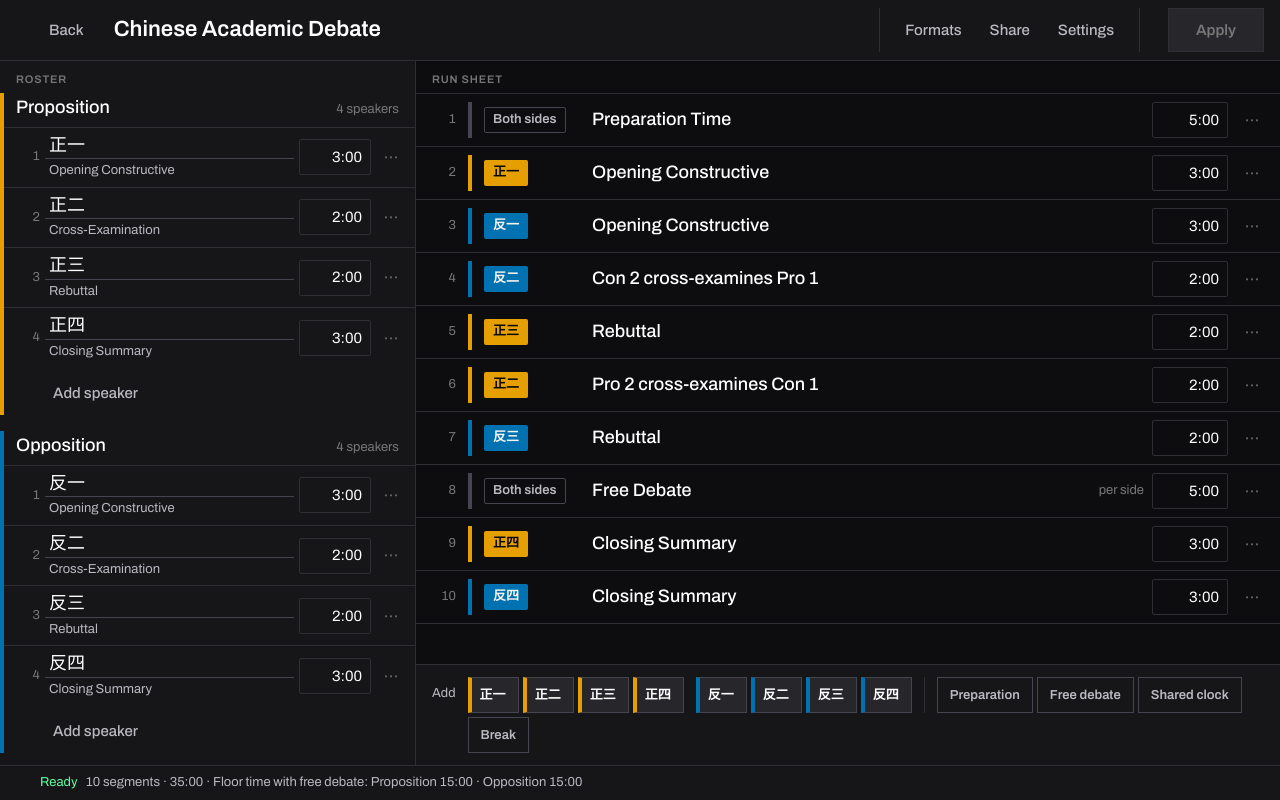
Editor › a speech row's time is its speaker's, so the roster and every speech by them agree
Click the button "正一": (493, 696) [468,678,519,714]
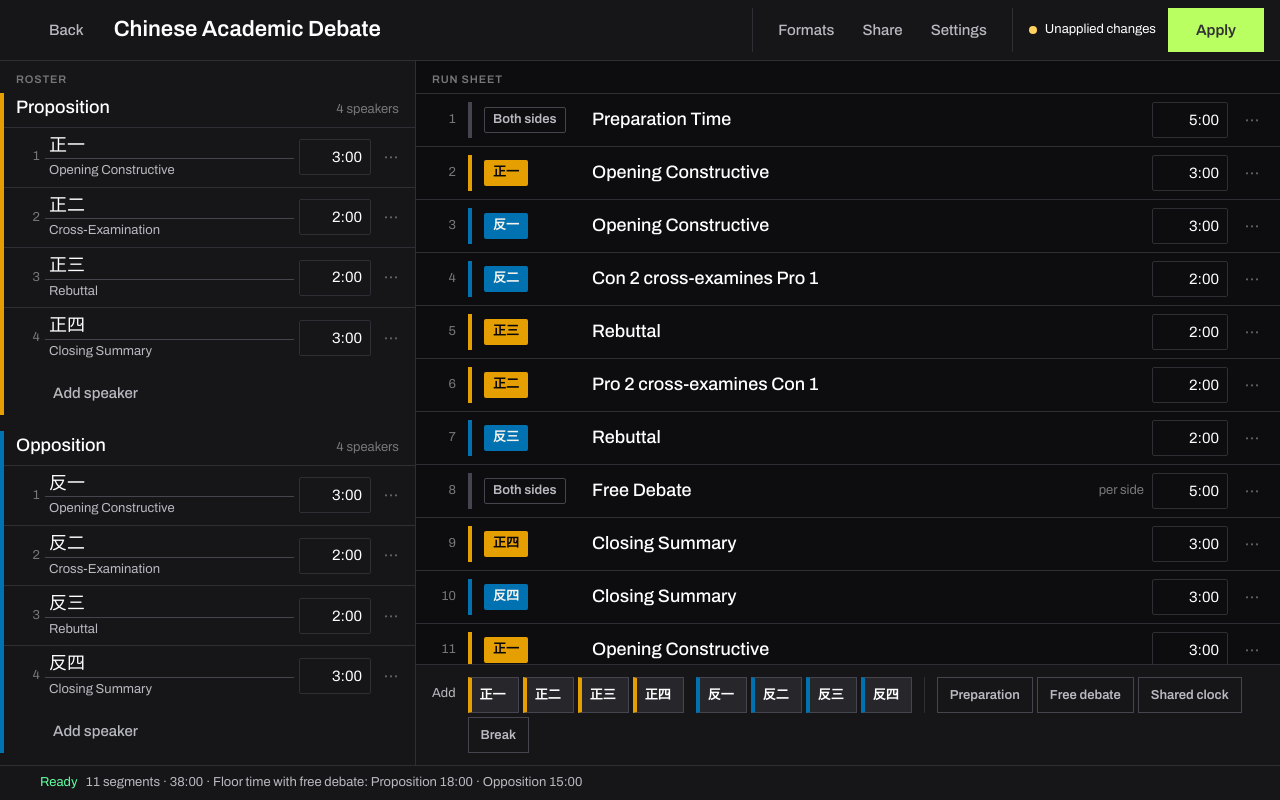
Replace the text in the 1st number field named "Segment 2 · 正一's time" with "3:30": (1190, 173) [1152,155,1228,191]
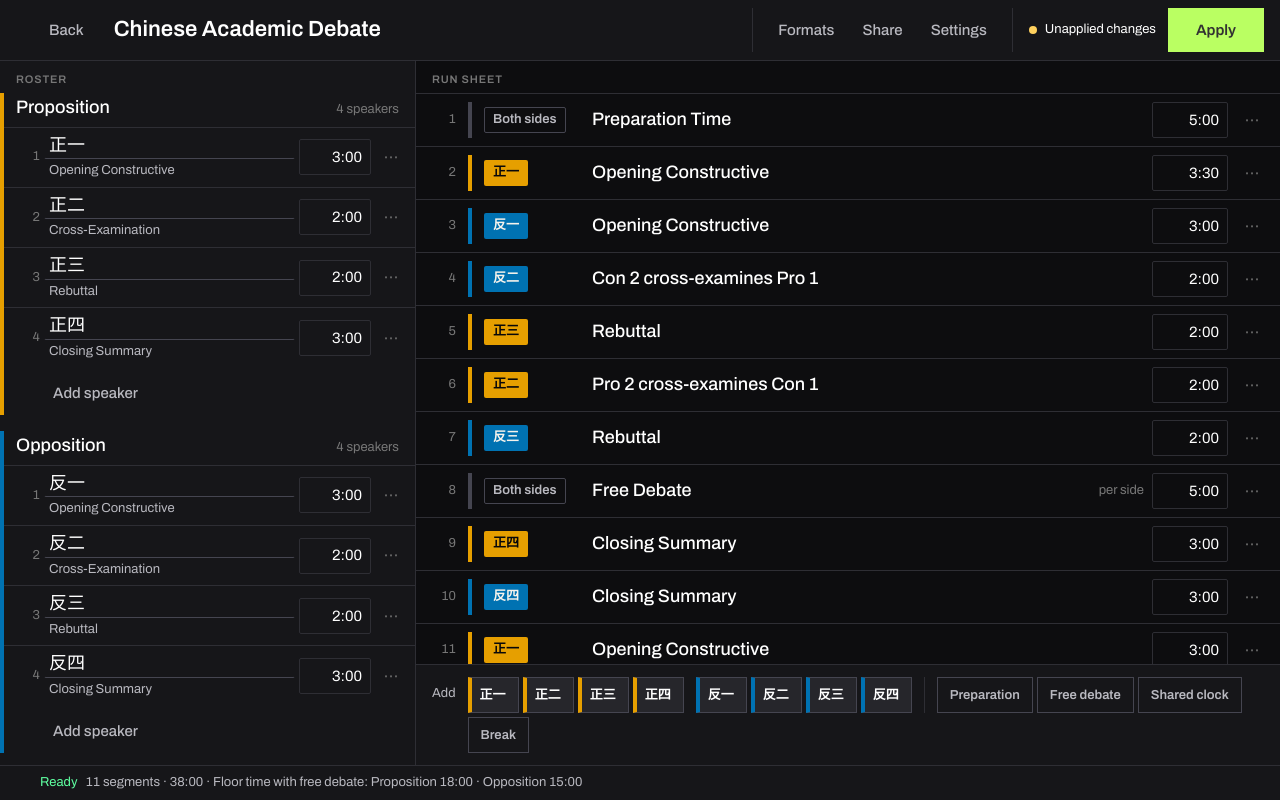
Press Enter in the 1st number field named "Segment 2 · 正一's time", box [1152,155,1228,191]
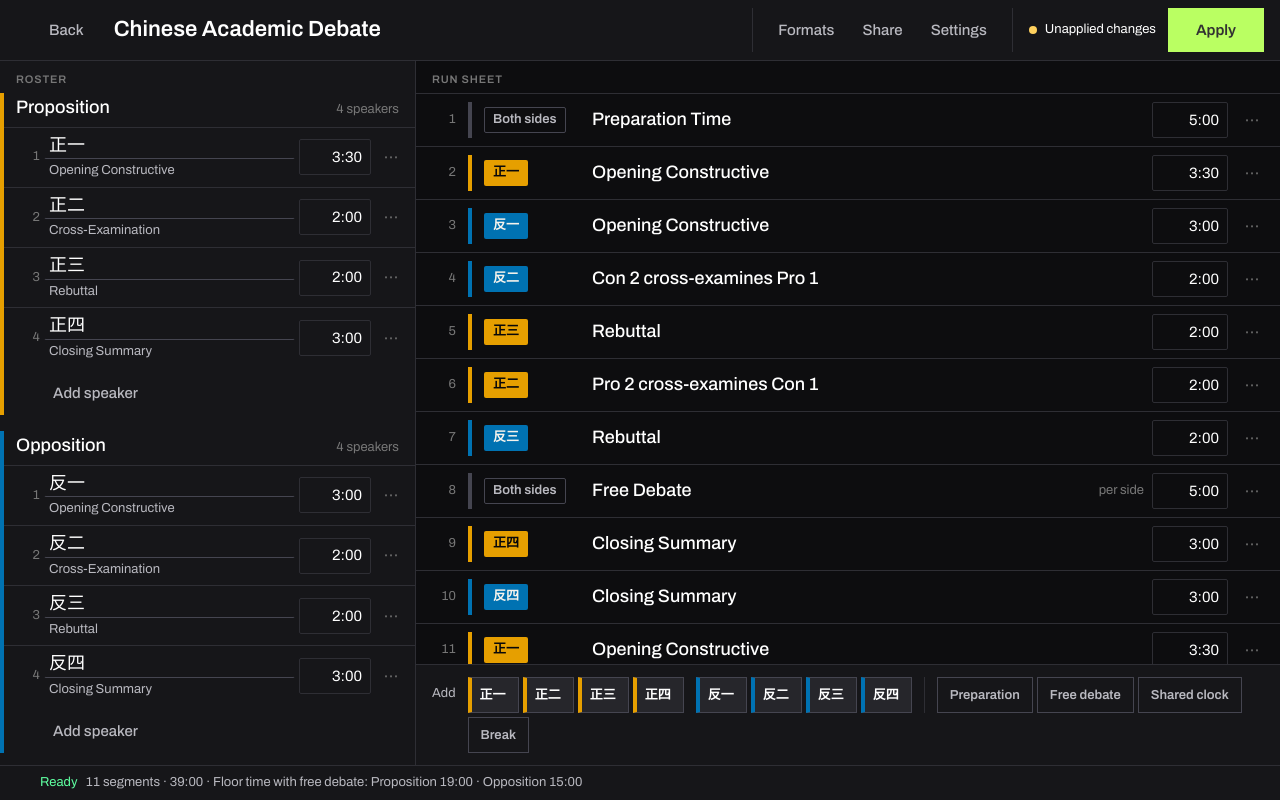
Check: the 2nd number field named "Proposition · Speaker 1 · Time" holds "3:30", box [299,139,371,175]
Check: the 2nd number field named "Segment 11 · 正一's time" holds "3:30", box [1152,632,1228,664]
Check: the text "Floor time with free debate: Proposition 19:00 · Opposition 15:00" is shown, box [213,776,582,790]
